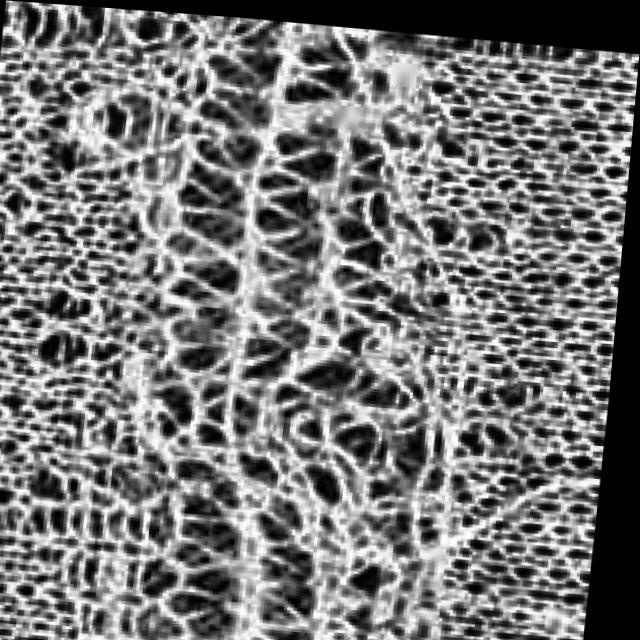Hole: (14, 2, 640, 640)
